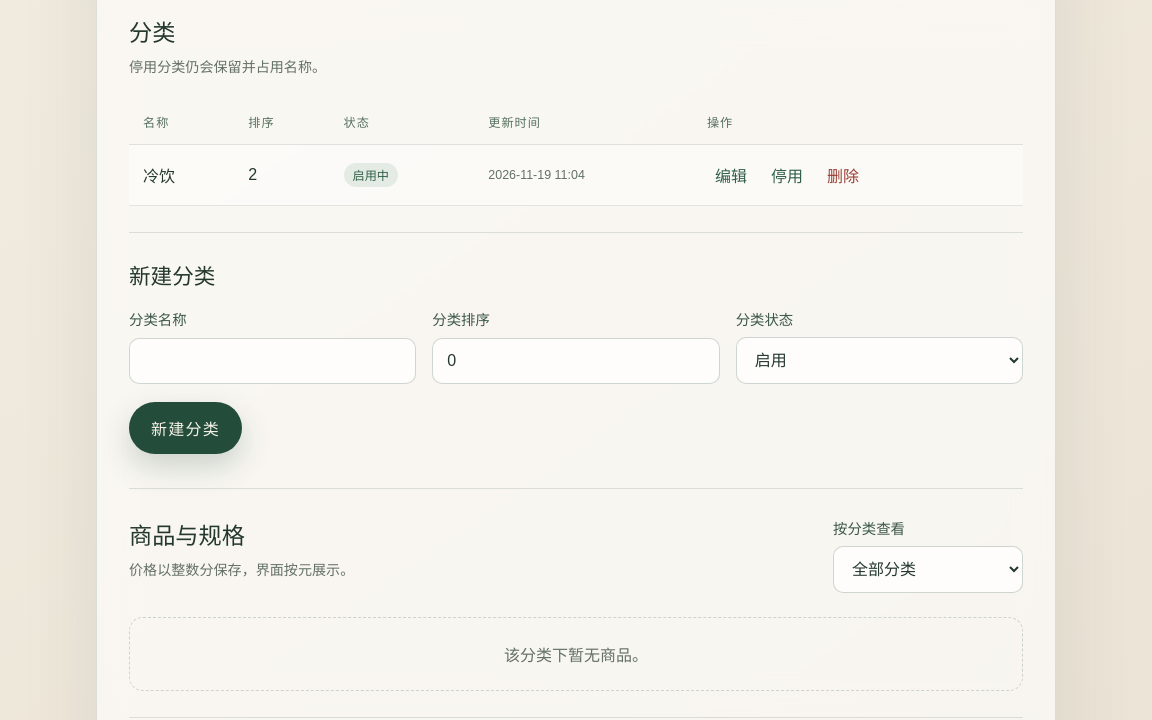
Test: product menu management for signed-in staff › shows the shared conflict message when a name already exists
This screenshot has width=1152, height=720.
(page scrolled)
Type "冷饮" into the field labelled "分类名称".
click(273, 361); type("冷饮")  # box [129,338,416,384]
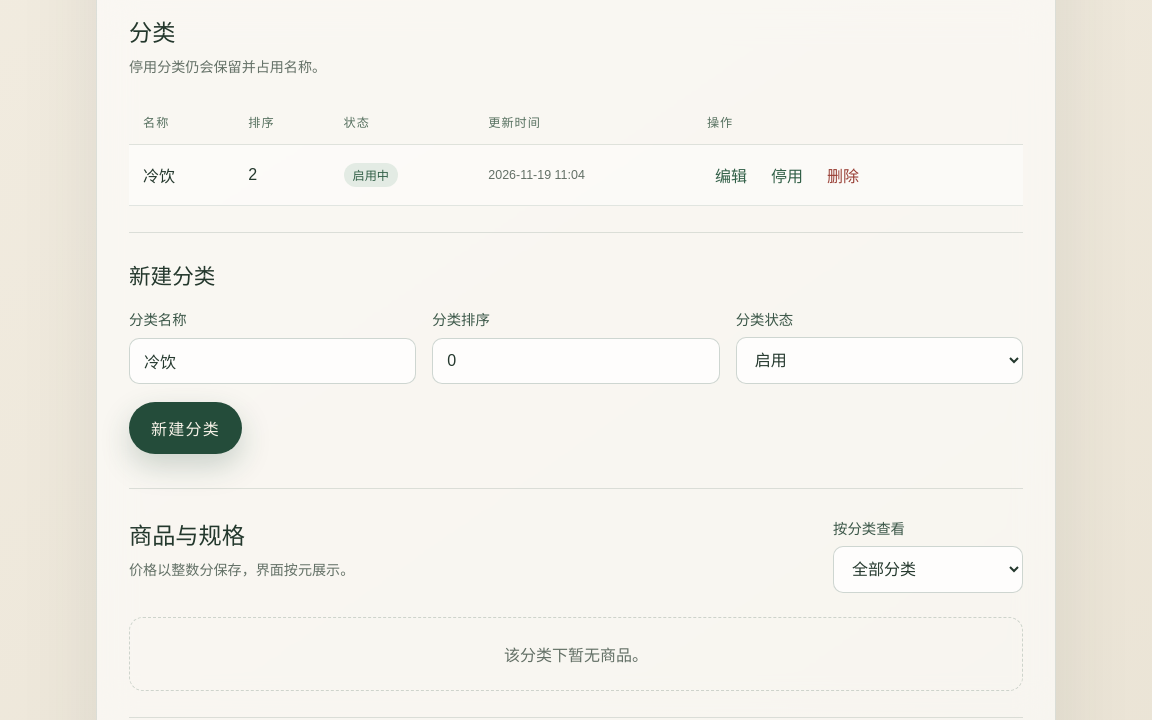
Click the button "新建分类".
click(186, 428)  # box [129,402,242,454]
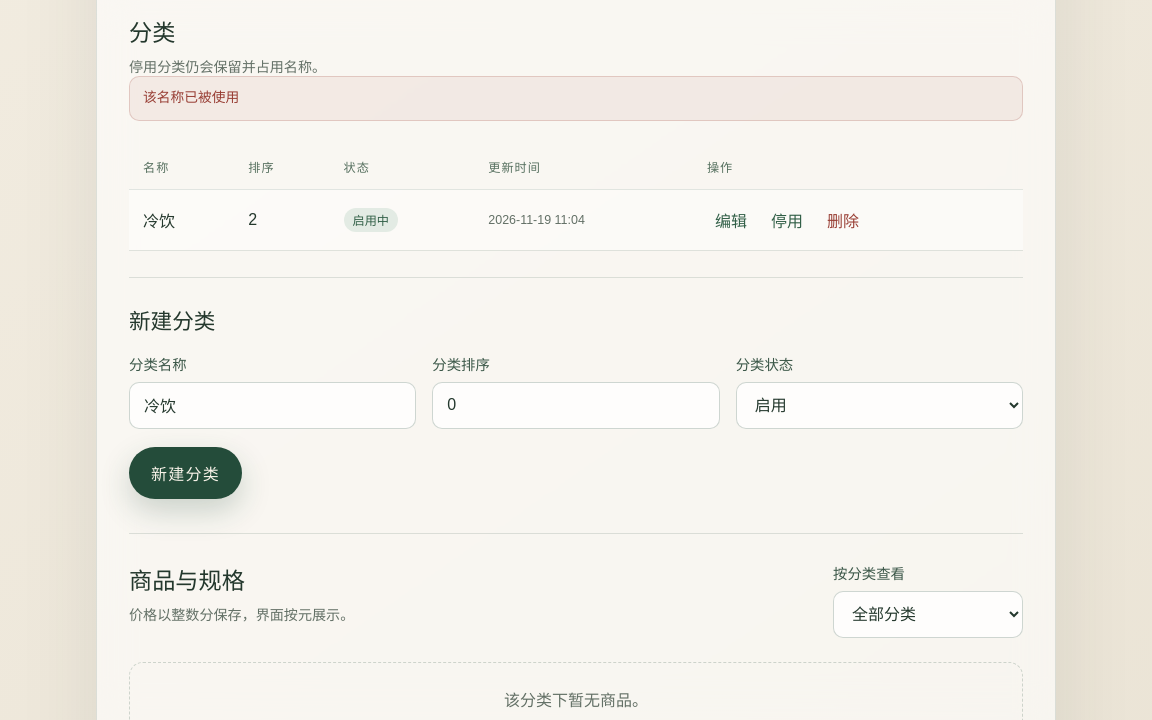
expect the text "该名称已被使用" is shown: met, box [129,76,1023,121]
